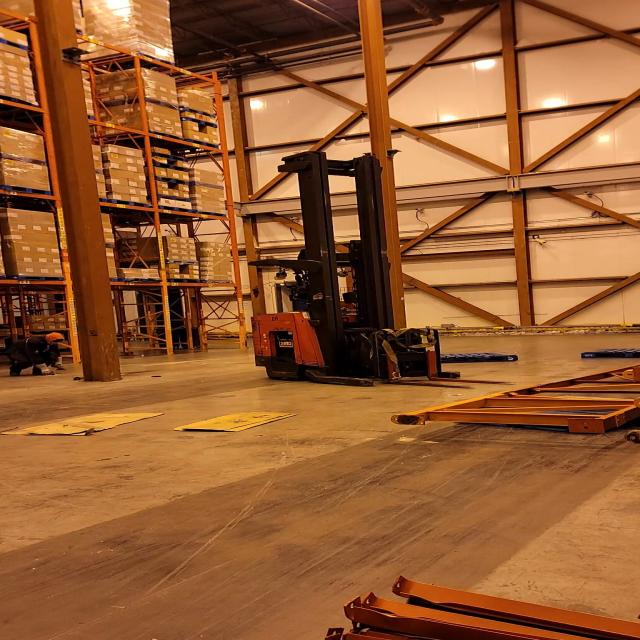forklift: (248, 158, 465, 388)
human: (0, 328, 76, 377)
objectofinterest: (383, 367, 640, 439), (0, 409, 166, 439), (168, 407, 300, 437), (428, 348, 524, 366), (571, 343, 640, 363)
